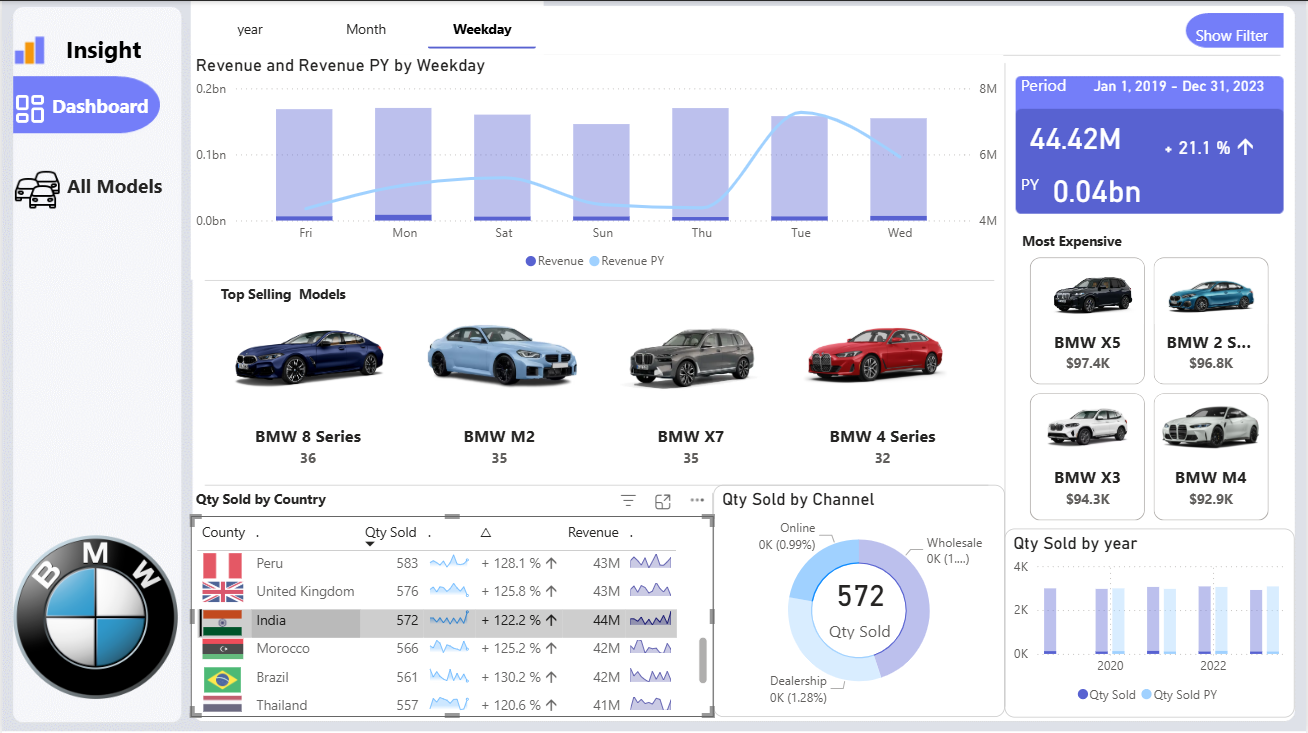

Layout of this report page (visuals, bound fields, positions):
{"tool":"powerbi","page":{"name":"Dashboard","canvas":[1280,720],"ordinal":0},"visuals":[{"type":"lineStackedColumnComboChart","fields":{"Category":["Calendar.Month"],"Y":["All Measures.Revenue"],"Y2":["All Measures.Revenue PY"]},"box":[185.3,52.8,797.6,220.9],"z":0},{"type":"advancedSlicerVisual","fields":{"Values":["PeriodSlicer.PeriodSlicer"]},"box":[185.3,0,346,52.8],"z":1000},{"type":"card","fields":{"Values":["All Measures.Revenue"]},"box":[995.4,102.5,117.1,60.2],"z":2000},{"type":"card","fields":{"Values":["All Measures.Revenue PY"]},"box":[1024.7,162.7,100.8,43.9],"z":3000},{"type":"textbox","box":[995.4,162.7,29.3,43.9],"z":4000},{"type":"card","fields":{"Values":["All Measures.Revenue Variance % Arrow"]},"box":[1125.6,126.9,115.5,35.8],"z":5000},{"type":"card","fields":{"Values":["All Measures.Selected Period"]},"box":[1054,66.7,203.3,35.8],"z":6000},{"type":"textbox","box":[995.4,66.7,79.7,35.8],"z":7000},{"type":"advancedSlicerVisual","fields":{"Values":["dimModel.Model"]},"box":[185.3,273.3,797.3,201.3],"z":8000},{"type":"textbox","box":[209.8,273.3,149.6,30.9],"z":9000},{"type":"advancedSlicerVisual","fields":{"Values":["dimModel.Model"]},"box":[984.1,246.6,284.7,269.9],"z":10000},{"type":"textbox","box":[996.1,221.1,117.1,34.2],"z":11000},{"type":"clusteredColumnChart","title":"Qty Sold by year","fields":{"Y":["All Measures.Qty Sold","All Measures.Qty Sold PY"],"Category":["Calendar.year"]},"box":[984.1,517.8,284.7,185.3],"z":12000},{"type":"donutChart","fields":{"Y":["All Measures.Qty Sold"],"Category":["dimChannel.Channel"]},"box":[697.8,475,286.3,227.7],"z":13000},{"type":"card","fields":{"Values":["All Measures.Qty Sold"]},"box":[771,517.2,143.1,154.5],"z":14000},{"type":"tableEx","fields":{"Values":["dimCountry.Countries with Flags URL.Flag","dimCountry.Country","All Measures.Qty Sold","All Measures.Qty Sold Sparkline","All Measures.Qty Sold Variance % Arrow","All Measures.Revenue","All Measures.Revenue Sparkline"]},"box":[185.4,505.9,512.4,196.8],"z":15000},{"type":"textbox","box":[185.4,475,216.3,30.9],"z":16000},{"type":"textbox","box":[43.9,84.6,107.4,42.3],"z":17000},{"type":"image","box":[11.4,84.6,32.5,42.3],"z":18000},{"type":"textbox","box":[58.6,162.7,113.9,43.9],"z":19000},{"type":"actionButton","box":[11.4,162.7,161,40.7],"z":20000},{"type":"image","box":[11.4,162.7,47.2,43.9],"z":21000},{"type":"actionButton","box":[1156.9,13.7,100.5,39.7],"z":23000},{"type":"actionButton","box":[58.3,26.1,114.2,41],"z":24000},{"type":"image","box":[11.2,26.1,32.3,42.2],"z":25000},{"type":"image","box":[11.2,506.2,161.2,196.2],"z":26000}]}

Visuals, with their boxes on the page's 1280x720 design canvas (x1, y1, x2, y2). These are canvas units, not pixel positions in the 1308x733 screenshot, which may show the page scaled, cropped or inside an application window:
lineStackedColumnComboChart - Calendar.Month x All Measures.Revenue: box=[185, 53, 983, 274]
advancedSlicerVisual - PeriodSlicer.PeriodSlicer: box=[185, 0, 531, 53]
card - All Measures.Revenue: box=[995, 102, 1112, 163]
card - All Measures.Revenue PY: box=[1025, 163, 1126, 207]
textbox: box=[995, 163, 1025, 207]
card - All Measures.Revenue Variance % Arrow: box=[1126, 127, 1241, 163]
card - All Measures.Selected Period: box=[1054, 67, 1257, 102]
textbox: box=[995, 67, 1075, 102]
advancedSlicerVisual - dimModel.Model: box=[185, 273, 983, 475]
textbox: box=[210, 273, 359, 304]
advancedSlicerVisual - dimModel.Model: box=[984, 247, 1269, 516]
textbox: box=[996, 221, 1113, 255]
"Qty Sold by year" clusteredColumnChart: box=[984, 518, 1269, 703]
donutChart - All Measures.Qty Sold x dimChannel.Channel: box=[698, 475, 984, 703]
card - All Measures.Qty Sold: box=[771, 517, 914, 672]
tableEx - dimCountry.Countries with Flags URL.Flag x dimCountry.Country: box=[185, 506, 698, 703]
textbox: box=[185, 475, 402, 506]
textbox: box=[44, 85, 151, 127]
image: box=[11, 85, 44, 127]
textbox: box=[59, 163, 172, 207]
actionButton: box=[11, 163, 172, 203]
image: box=[11, 163, 59, 207]
actionButton: box=[1157, 14, 1257, 53]
actionButton: box=[58, 26, 172, 67]
image: box=[11, 26, 44, 68]
image: box=[11, 506, 172, 702]
